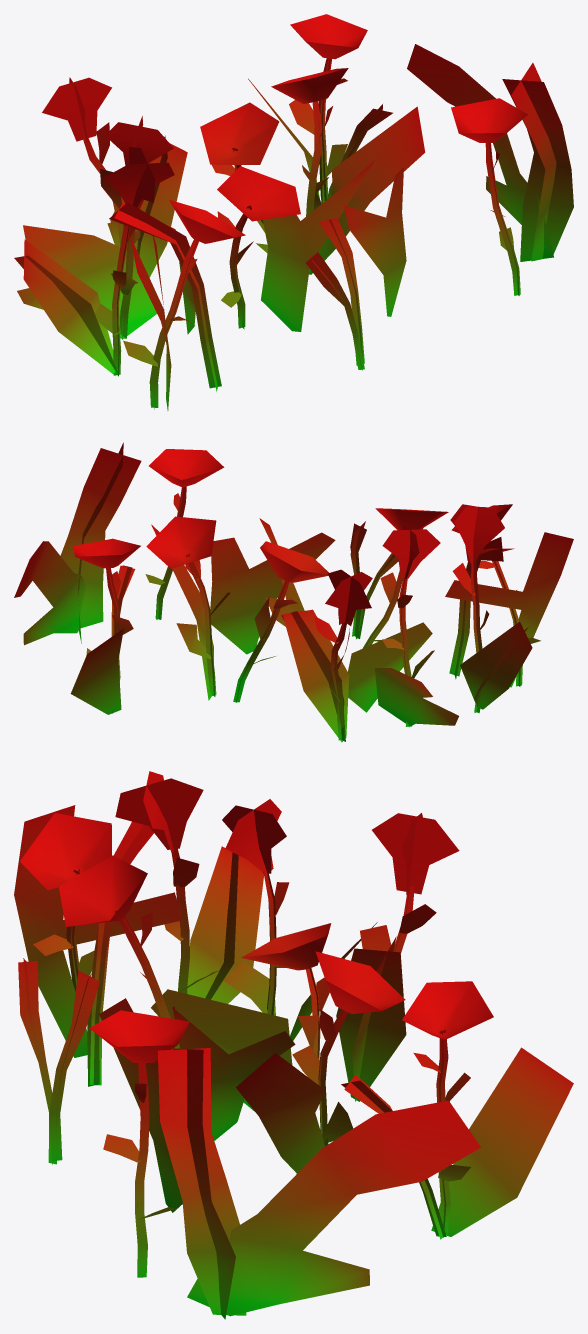
The model's file is Var9_LOD0.fbx.
3 renders of one model, top to bottom at view 1: azimuth 30°, elevation 25°; view 2: azimuth 150°, elevation 25°; view 3: azimuth 270°, elevation 25°, orthographic. The views are drawn at different scales.
Visible parts, largest first — view 1: _ff6b_Var9_LOD0; view 2: _ff6b_Var9_LOD0; view 3: _ff6b_Var9_LOD0.
Boxes of the visible parts, x1,y1,x2,y2 form: _ff6b_Var9_LOD0: (14,14,573,410); _ff6b_Var9_LOD0: (14,442,573,742); _ff6b_Var9_LOD0: (14,771,573,1319).
Bounding box in the file's own units: 15.94 × 6.63 × 11.55.
